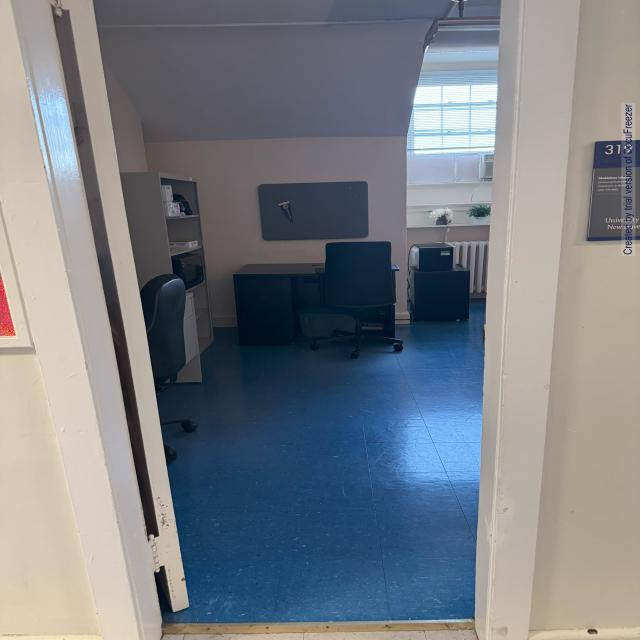Table: (223, 252, 409, 355)
chair: (318, 239, 418, 365)
